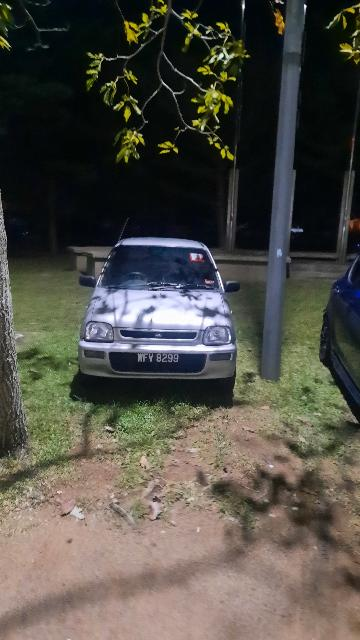License_Plate: (134, 352, 182, 368)
car: (76, 221, 241, 394)
